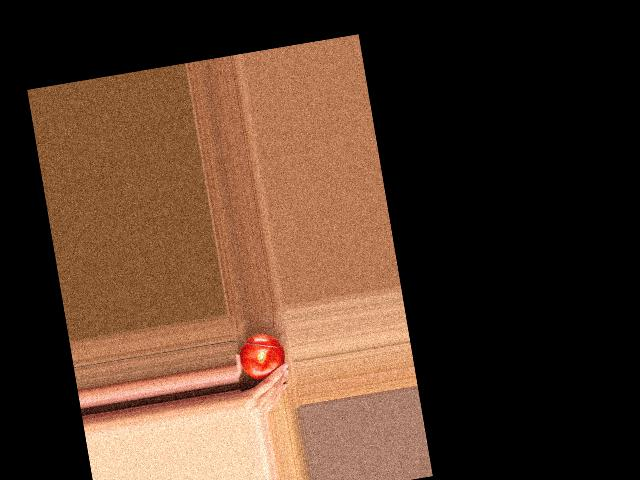tomato: (236, 331, 287, 382)
